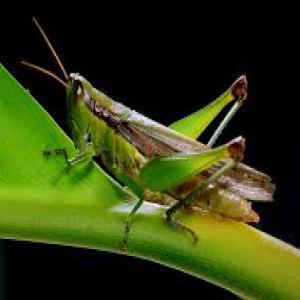locust: (59, 55, 270, 230)
